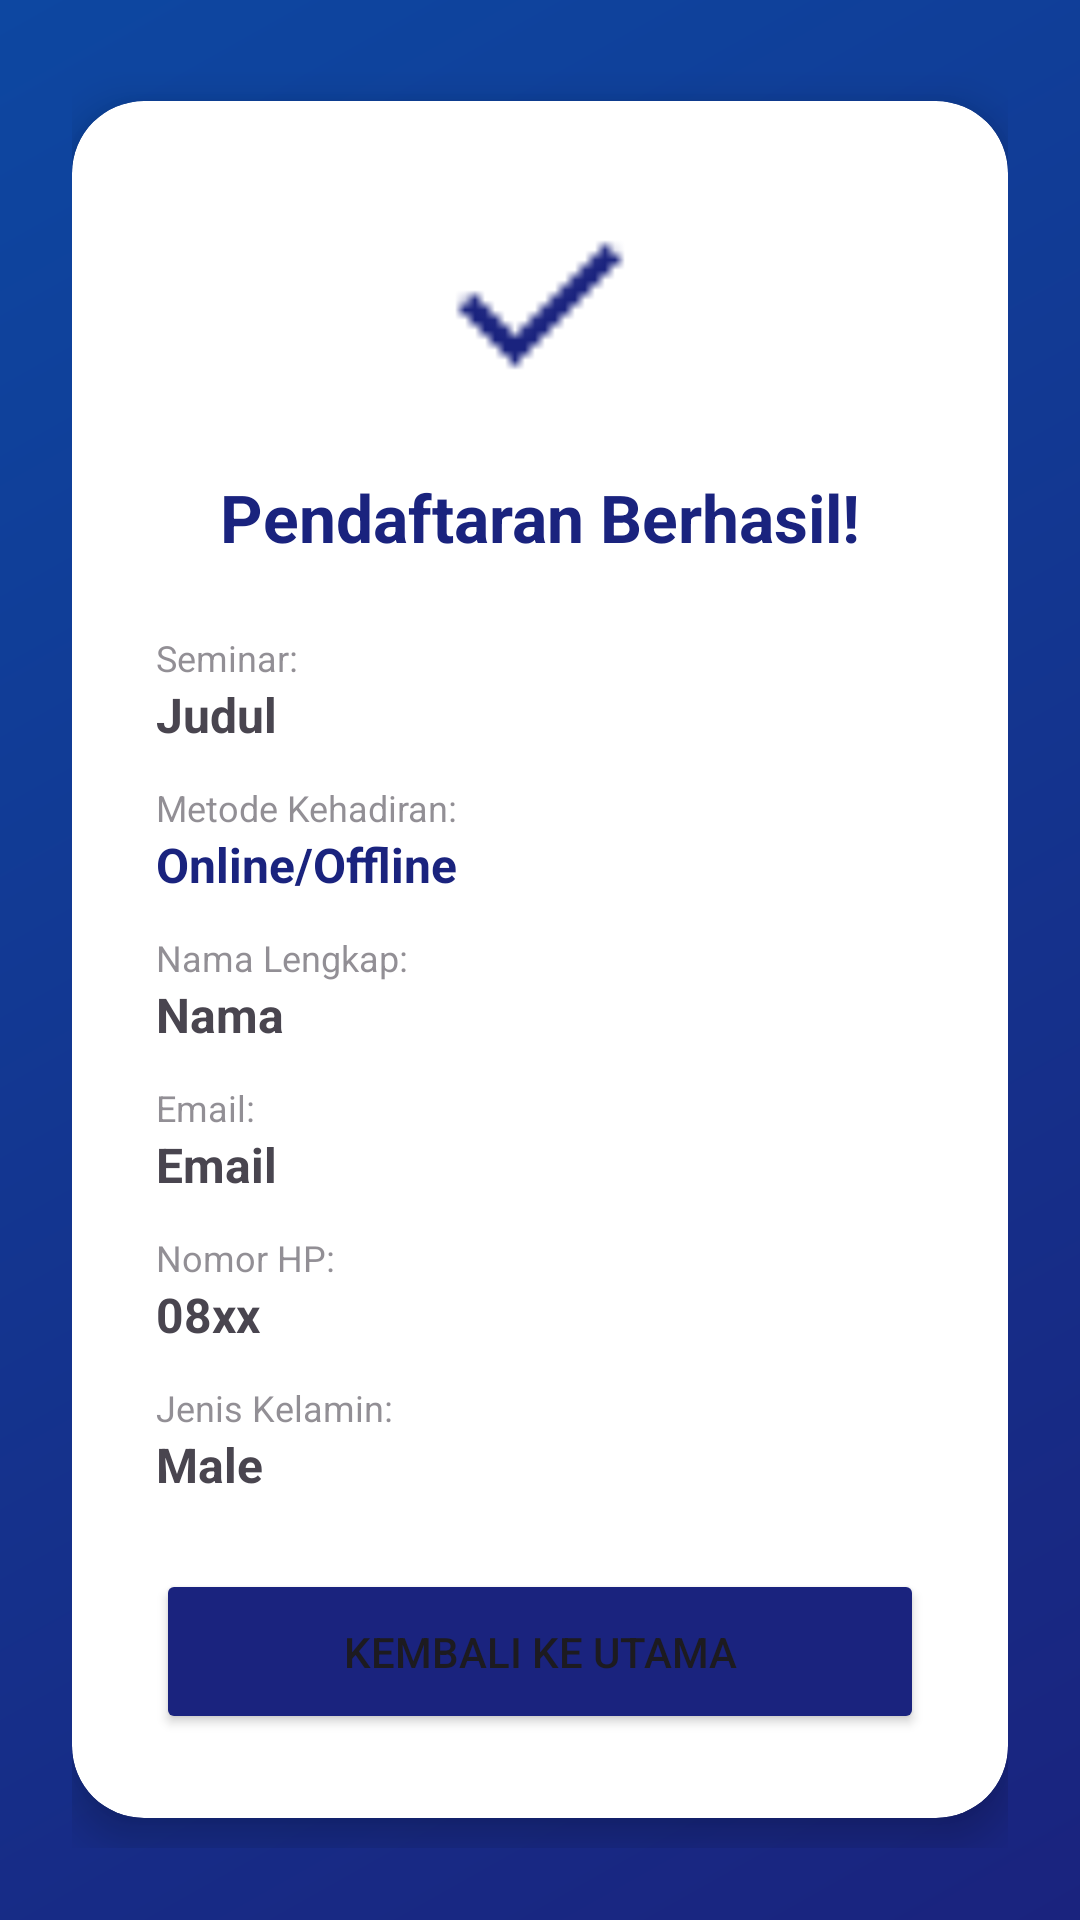

Where icons sit on this 1080 x 1920 app screen, as (x1, y1, x2, y2):
done: (456, 241, 624, 369)
